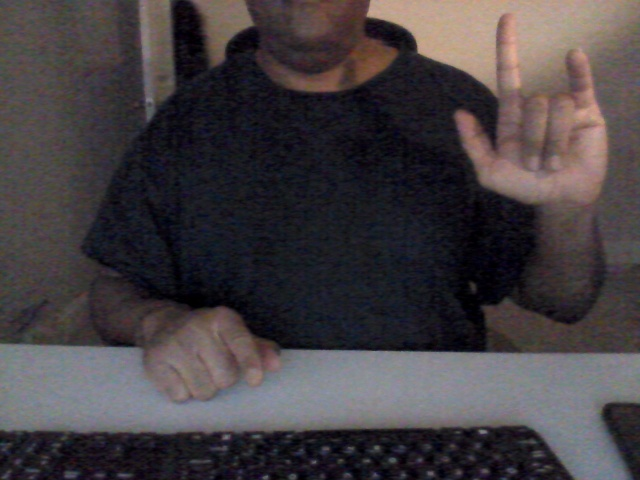i_love_you: (453, 13, 615, 216)
